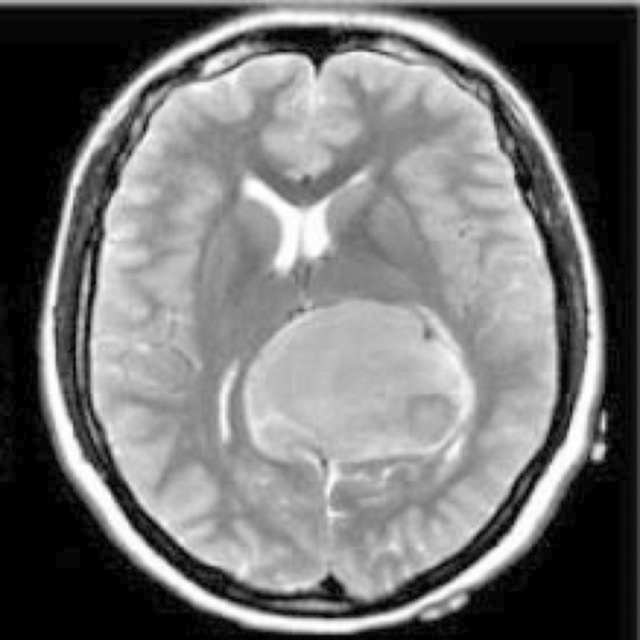meningioma tumor: (225, 287, 500, 495)
